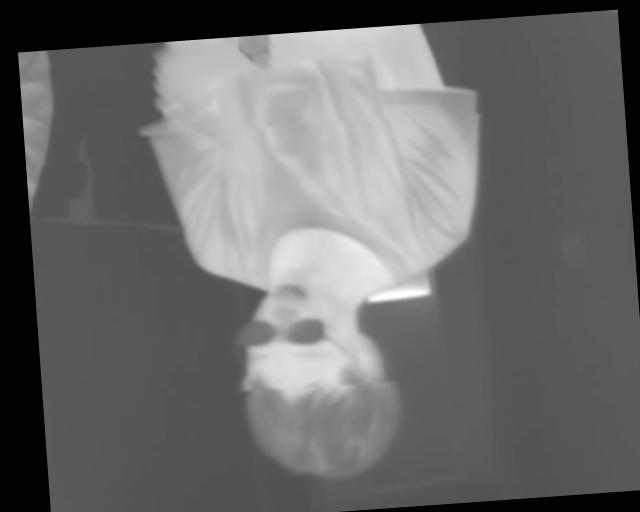face: (228, 261, 407, 486)
